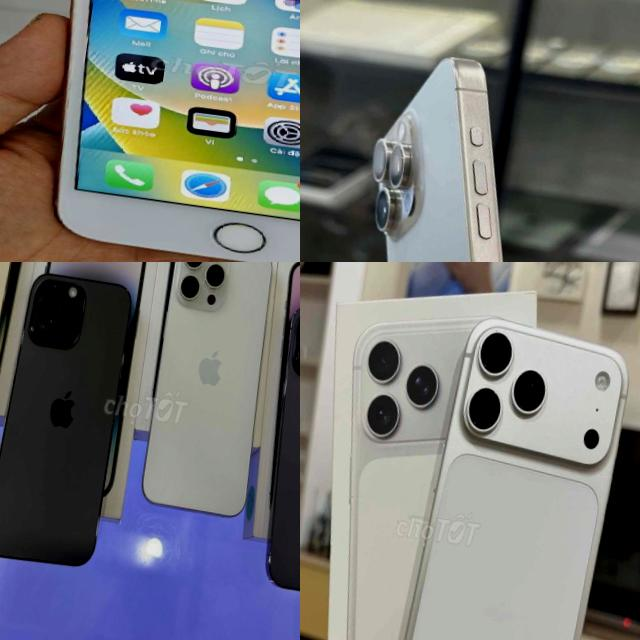gen_14: (0, 262, 140, 583), (127, 262, 286, 541), (247, 287, 300, 625)
gen_15: (300, 30, 621, 262)
gen_17: (375, 305, 634, 640)
gen_7_8: (16, 0, 300, 262)
